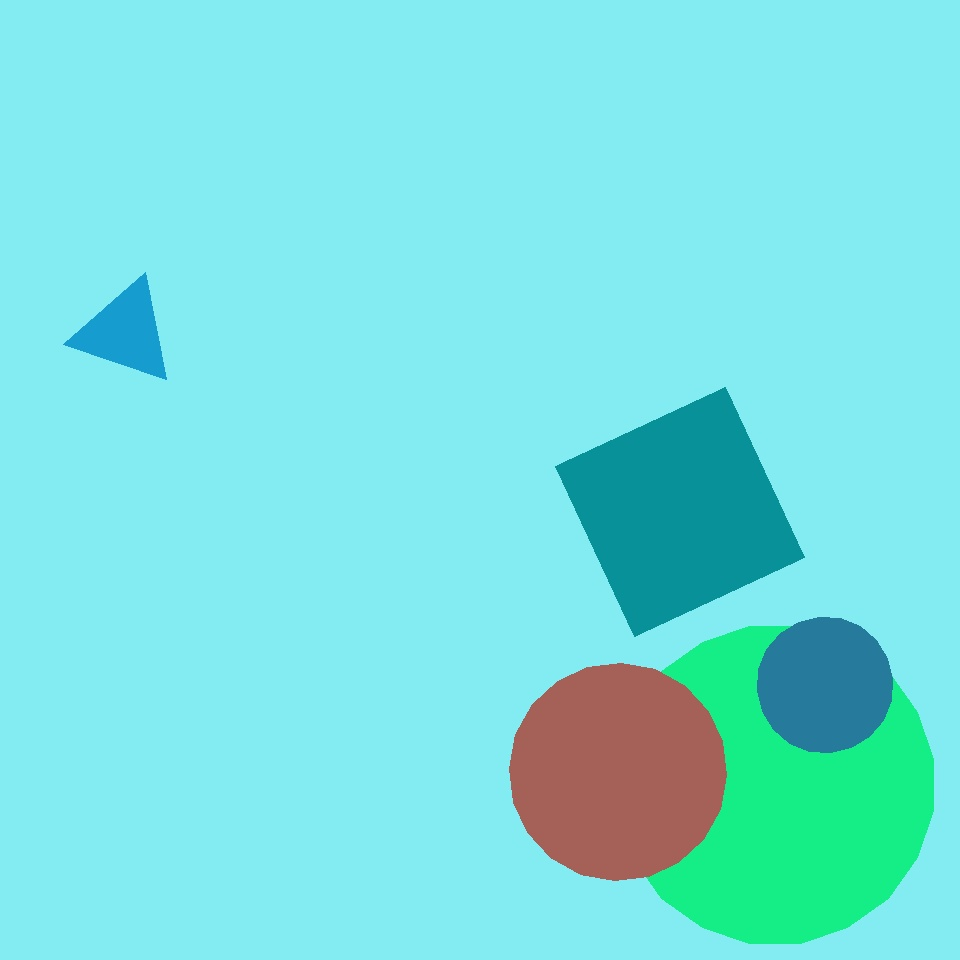circle: (552, 108, 827, 380), (74, 278, 176, 386)
square: (556, 388, 805, 636), (460, 694, 681, 915), (575, 147, 692, 264)
triangle: (616, 626, 934, 944), (66, 306, 306, 546), (510, 664, 726, 880), (758, 618, 892, 752)
